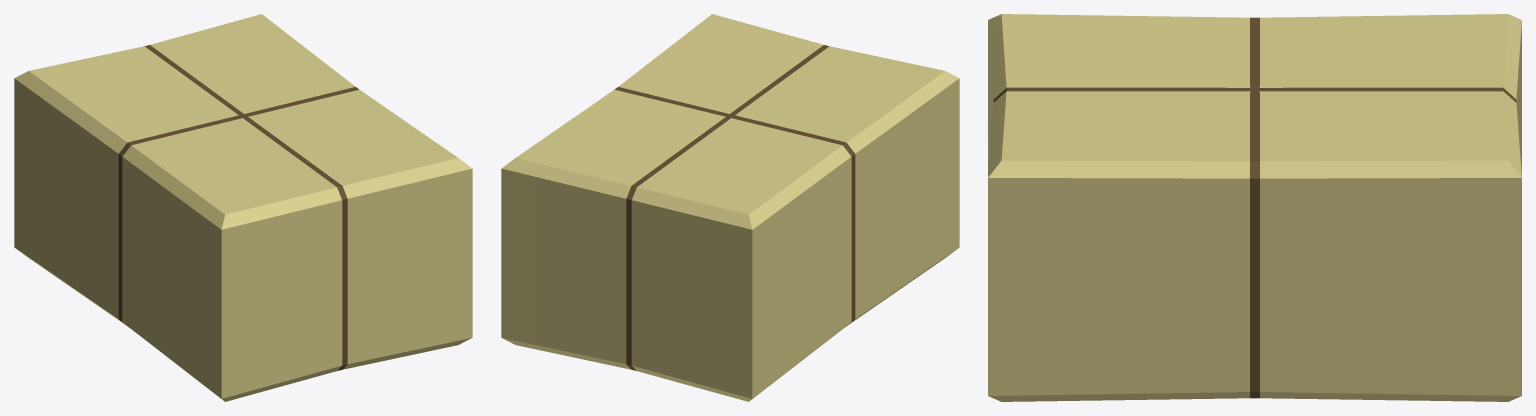
The model's file is Hayblock_01.fbx.
3 views of the same model, side by side, from view 1: azimuth 30°, elevation 25°; view 2: azimuth 150°, elevation 25°; view 3: azimuth 270°, elevation 25° (orthographic). The views are drawn at different scales.
Visible parts, largest first — view 1: pCube1; view 2: pCube1; view 3: pCube1.
Boxes of the visible parts, x1,y1,x2,y2 form: pCube1: [14, 14, 472, 401]; pCube1: [501, 14, 959, 401]; pCube1: [988, 14, 1521, 401].
Bounding box in the file's own units: 72.63 × 51.75 × 104.
